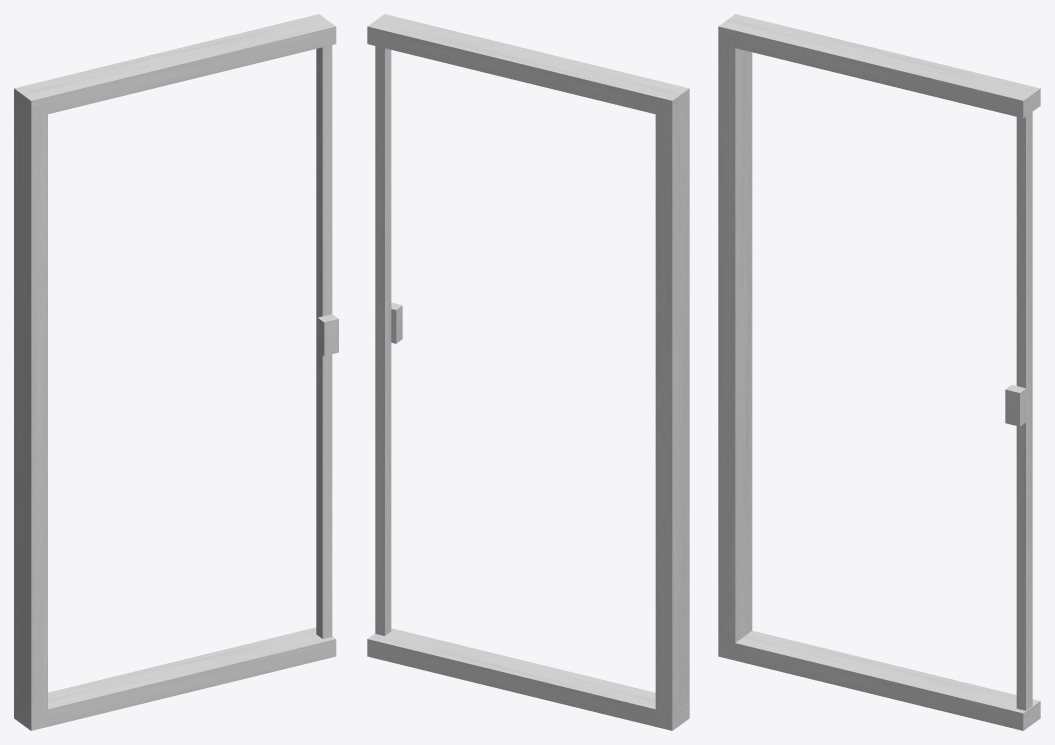
File: PuertaEstructuraFijo.obj
3 renders of one model, left to right at view 1: azimuth 30°, elevation 25°; view 2: azimuth 150°, elevation 25°; view 3: azimuth 330°, elevation 25°, orthographic.
Visible parts, largest first — view 1: pCube124; view 2: pCube124; view 3: pCube124.
Boxes of the visible parts, x1,y1,x2,y2 form: pCube124: (14,14,338,730); pCube124: (367,14,689,730); pCube124: (718,14,1040,730).
Bounding box in the file's own units: 5.41 × 10.68 × 0.6211.
